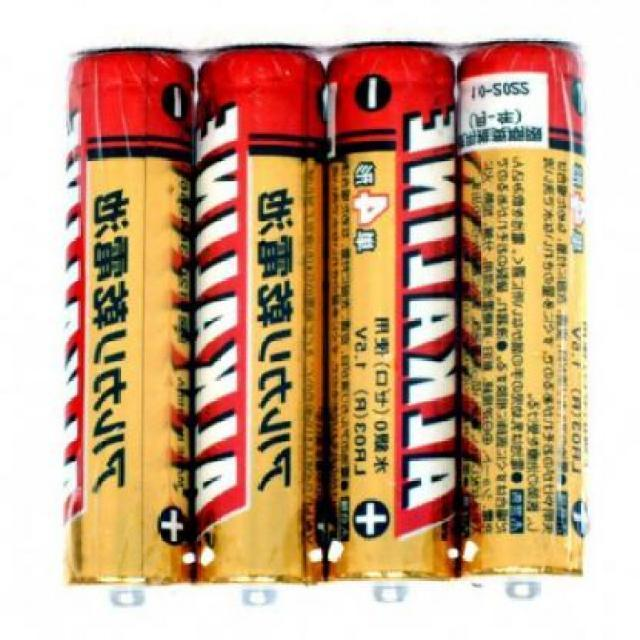AA: (188, 37, 330, 611), (456, 40, 594, 602), (58, 45, 195, 610), (329, 40, 462, 614)
